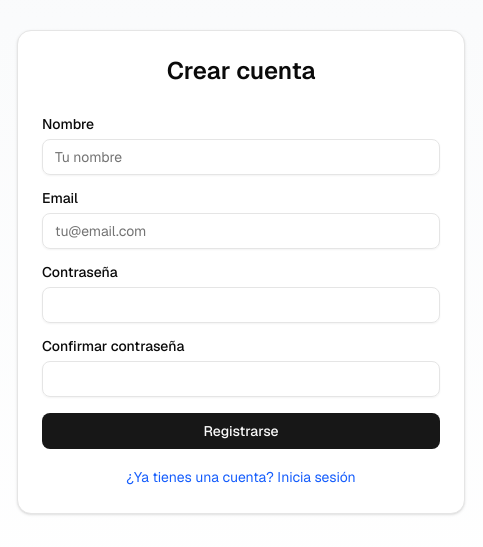
Test: RegisterPage › muestra error cuando las contraseñas no coinciden
The image size is (483, 547).
Note: Llenar el formulario con contraseñas diferentes
In the password field labelled "Contraseña": [241, 305] box [42, 287, 440, 323], type "password123"
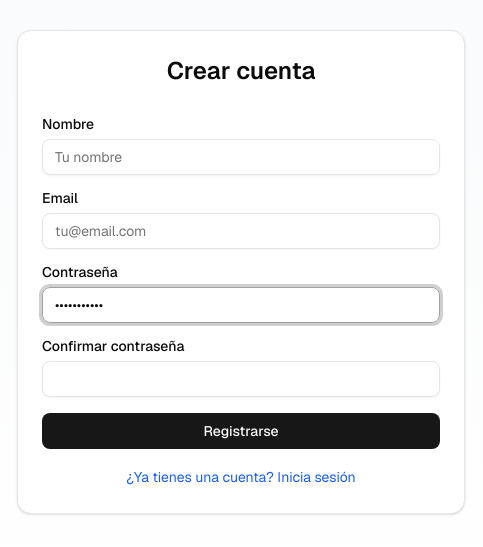
In the password field labelled "Confirmar contraseña": [241, 379] box [42, 361, 440, 397], type "password456"
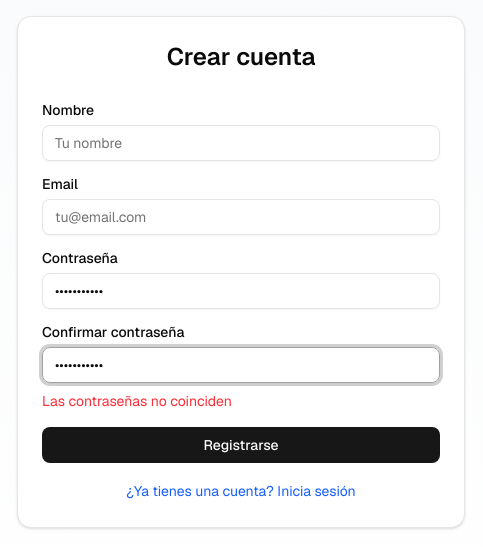
Result: the text "Las contraseñas no coinciden" is shown at [42, 392, 232, 410]
